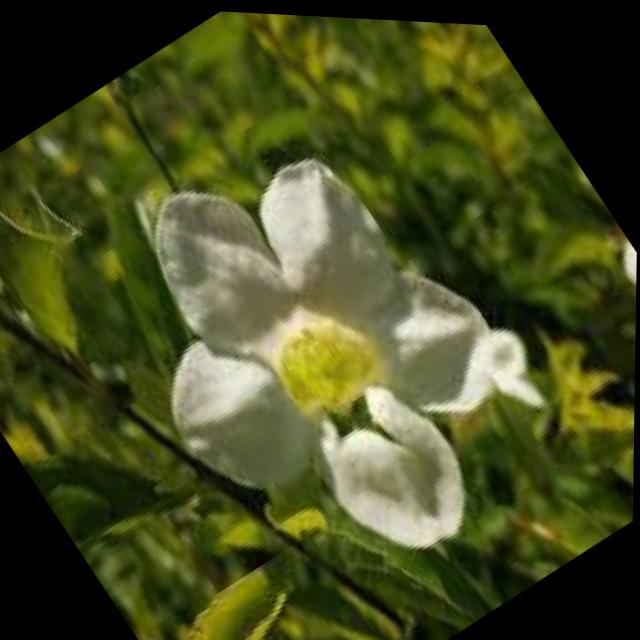Flower: (75, 97, 570, 629)
